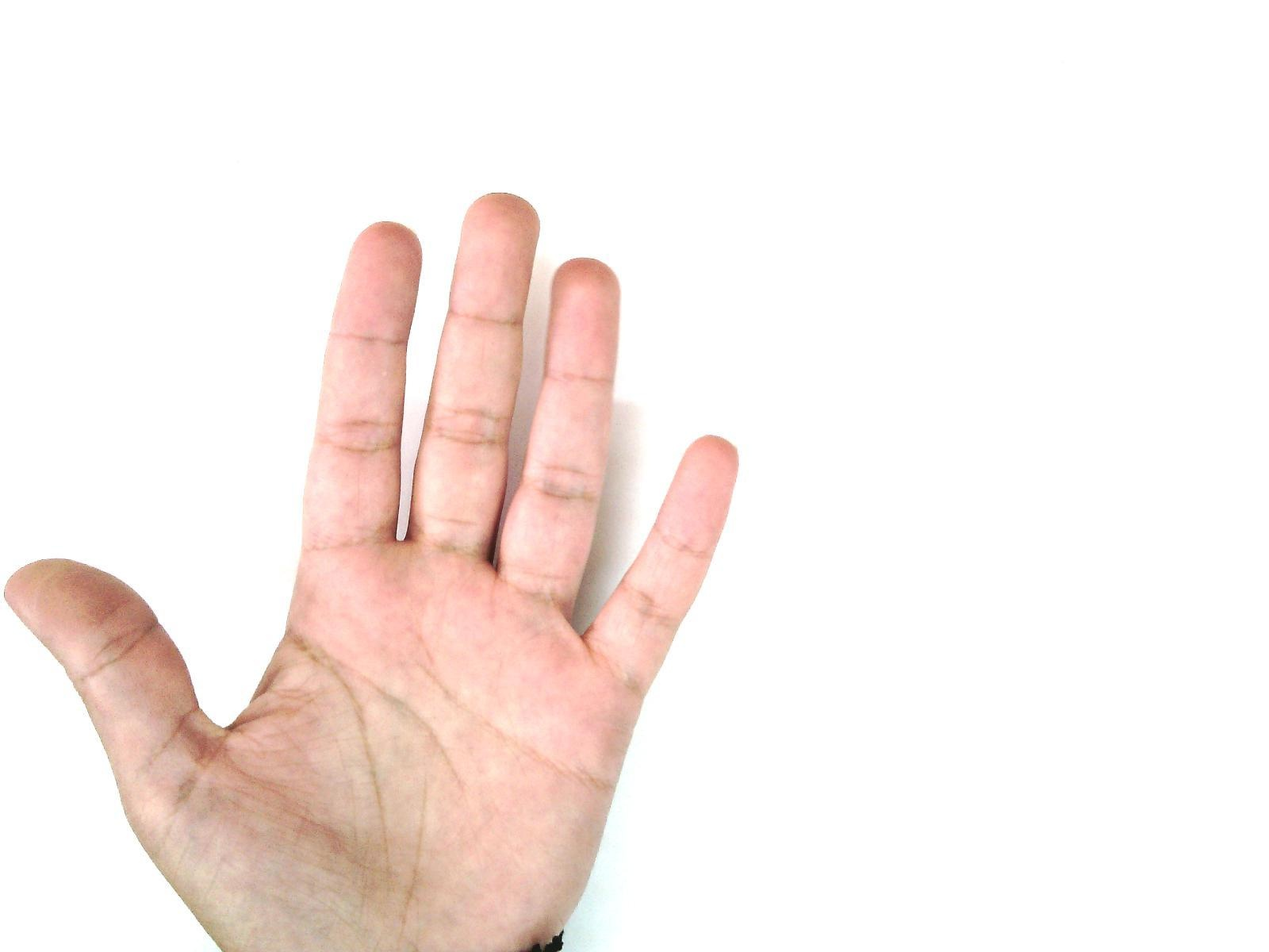open_palm: (6, 190, 742, 951)
